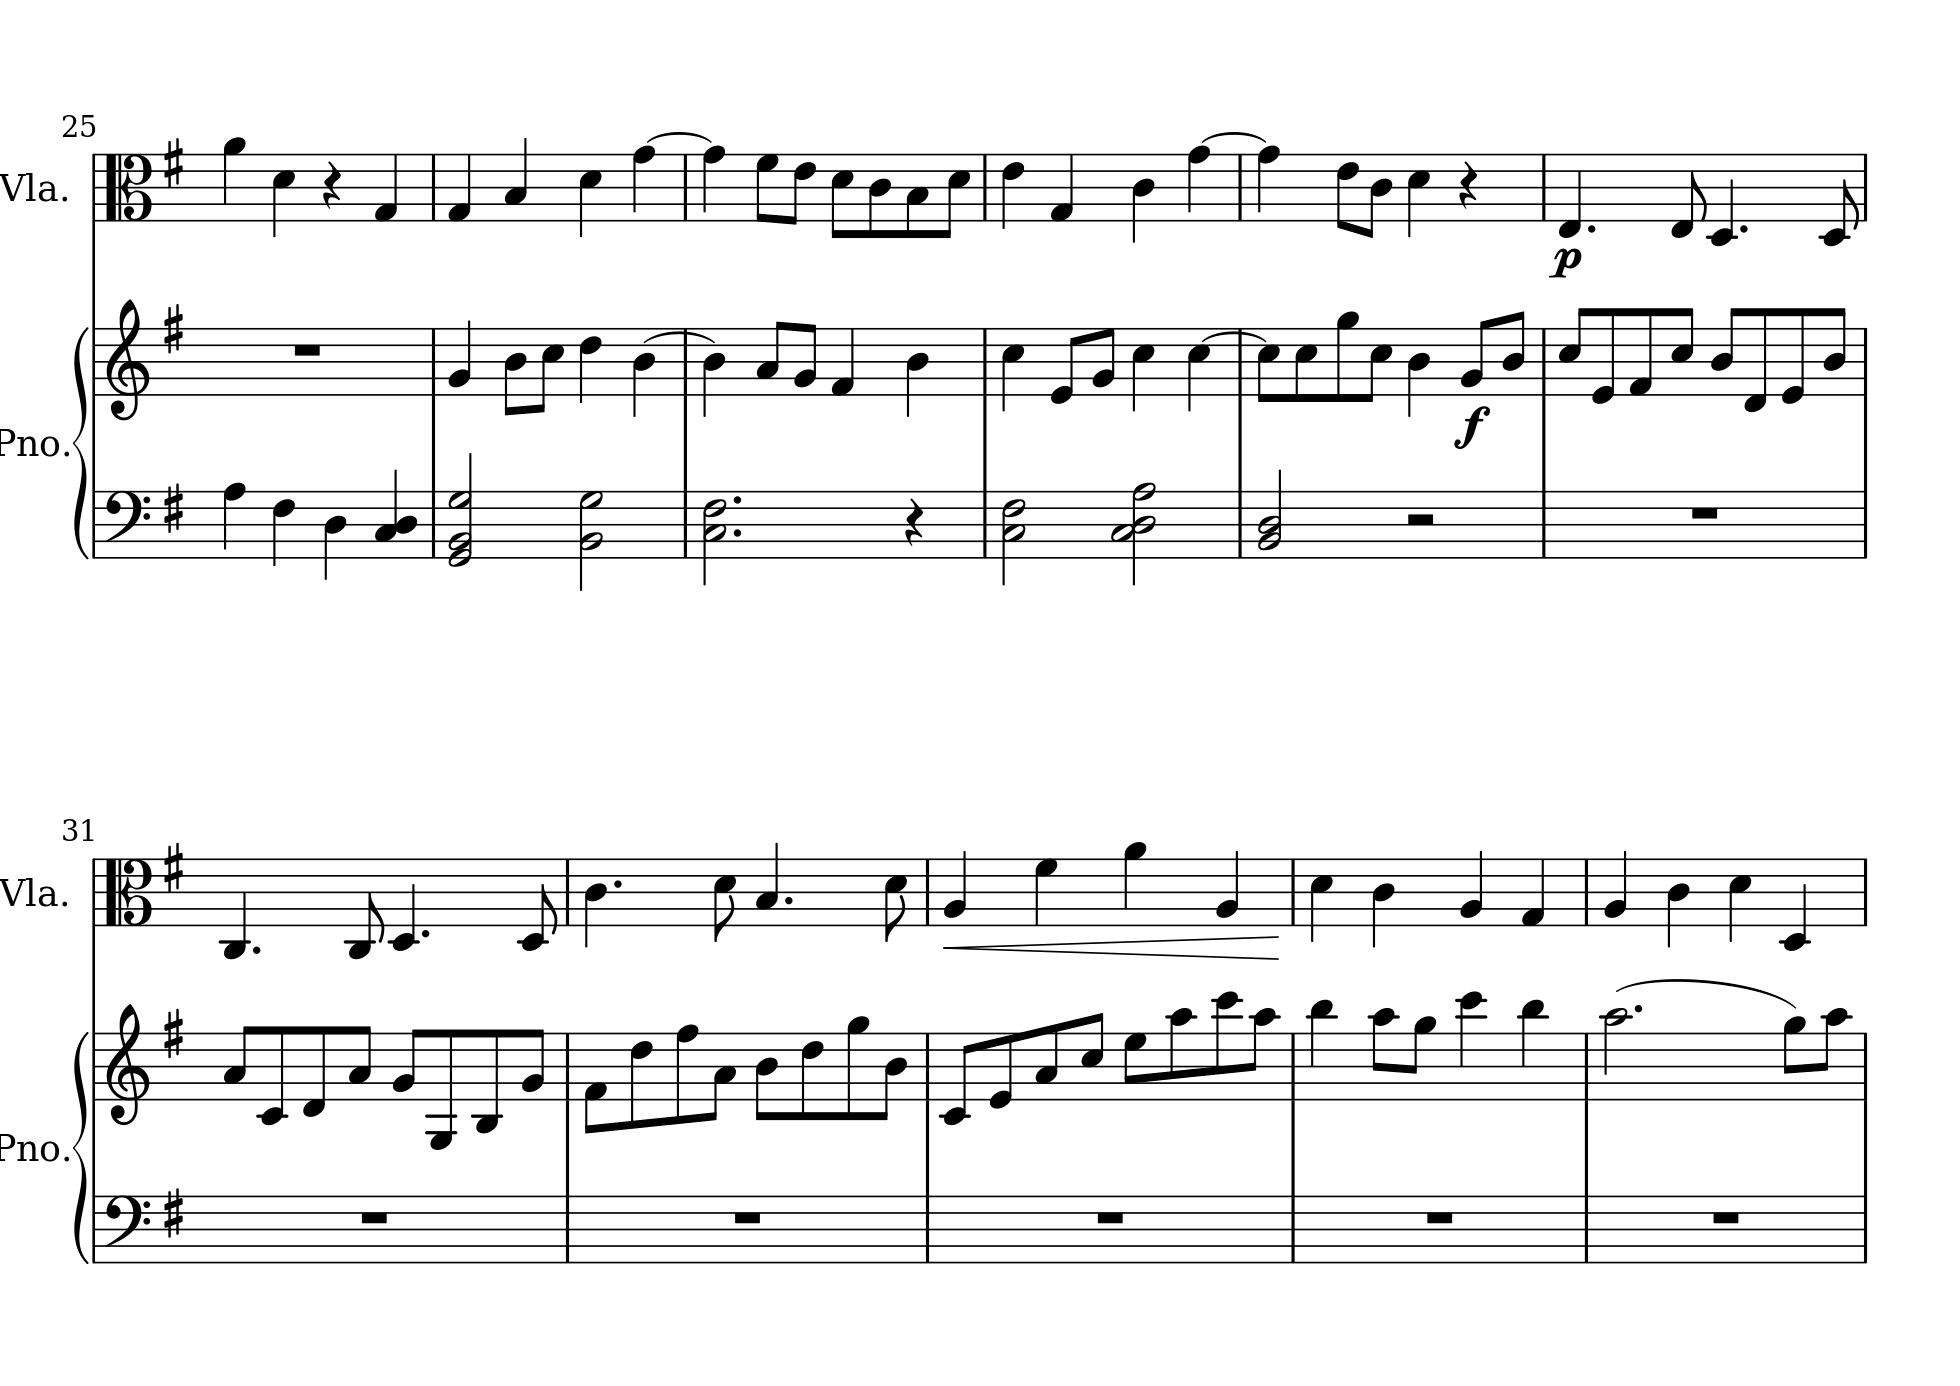1: (81, 816, 94, 843)
2: (60, 112, 79, 139)
2_10: (1602, 1005, 1629, 1102)
2_2_4: (1257, 469, 1284, 559)
2_2_7: (579, 489, 604, 591)
2_3_6: (700, 490, 727, 591), (1002, 489, 1029, 589)
2_th: (1110, 478, 1159, 586), (447, 448, 475, 571)
3: (61, 816, 78, 841)
4_-1: (1557, 151, 1582, 238)
4_-2: (1779, 855, 1809, 952), (1707, 151, 1737, 247), (388, 855, 417, 952)
4_-3: (219, 853, 249, 961)
4_1: (372, 151, 399, 223), (445, 151, 472, 223), (829, 325, 856, 397), (1048, 151, 1075, 222), (1519, 856, 1545, 927)
4_11: (1518, 997, 1546, 1102), (1306, 997, 1335, 1101)
4_12: (1456, 988, 1486, 1102)
4_2: (1215, 847, 1242, 927), (1602, 847, 1629, 927), (447, 318, 472, 397), (942, 847, 967, 927), (1459, 847, 1485, 927)
4_3: (502, 135, 528, 222), (754, 841, 778, 927)
4_4: (321, 487, 348, 580), (630, 325, 655, 418), (700, 325, 726, 418), (904, 325, 930, 418), (1405, 325, 1431, 418), (582, 856, 607, 949), (1665, 856, 1690, 948), (1131, 151, 1155, 244), (1371, 856, 1395, 948)
4_5: (999, 325, 1026, 412), (1308, 856, 1335, 943), (1405, 151, 1431, 240), (270, 151, 295, 238), (1129, 325, 1155, 412), (1185, 325, 1210, 412), (1726, 856, 1752, 943), (577, 151, 601, 240)
4_6: (999, 151, 1026, 229), (270, 489, 297, 567), (577, 325, 601, 403)
4_7: (1033, 856, 1059, 927)
4_8: (1185, 142, 1212, 223), (1254, 142, 1281, 223), (699, 142, 724, 223), (630, 142, 655, 222), (220, 480, 246, 559)
4_9: (1122, 838, 1147, 927), (220, 133, 244, 222)
5: (79, 111, 96, 138)
8_-1: (1668, 150, 1707, 238), (1740, 304, 1770, 415), (300, 1023, 328, 1117)
8_-2: (514, 856, 558, 952), (1818, 151, 1860, 247), (937, 1030, 975, 1126), (256, 1023, 288, 1126)
8_-3: (343, 856, 384, 960), (472, 1027, 501, 1132)
8_-5: (424, 1026, 456, 1150)
8_0: (1590, 304, 1617, 406), (1779, 304, 1806, 406), (1050, 325, 1081, 405), (987, 1029, 1014, 1108)
8_1: (582, 1030, 607, 1135), (1627, 304, 1654, 397)
8_10: (1818, 1005, 1851, 1101), (1246, 1006, 1279, 1101), (1368, 1005, 1398, 1101), (1167, 1006, 1194, 1102)
8_12: (1212, 988, 1242, 1102)
8_2: (1459, 316, 1491, 394), (390, 1027, 421, 1101), (792, 321, 817, 397), (519, 1026, 544, 1099), (1092, 325, 1116, 396)
8_3: (705, 1030, 736, 1122), (220, 1021, 255, 1099), (754, 318, 786, 396), (903, 151, 928, 238), (1033, 1020, 1060, 1101), (346, 1023, 370, 1101)
8_4: (1708, 304, 1743, 396), (876, 1030, 907, 1120), (1362, 151, 1392, 240), (1821, 304, 1848, 396), (1500, 307, 1527, 397), (753, 1030, 778, 1122), (867, 151, 892, 238), (502, 325, 526, 417)
8_5: (1555, 304, 1587, 397), (532, 325, 564, 412), (940, 151, 970, 238), (1668, 304, 1695, 396), (1078, 1009, 1104, 1102), (1362, 325, 1392, 403), (882, 856, 907, 943), (711, 856, 736, 942), (829, 151, 853, 238), (1255, 325, 1281, 403), (1293, 325, 1318, 403)
8_6: (627, 1030, 652, 1129), (786, 151, 817, 226), (798, 1030, 823, 1122), (1335, 151, 1359, 232)
8_7: (753, 151, 778, 223), (1122, 1030, 1147, 1101)
8_8: (672, 1021, 697, 1125)
8_9: (843, 1012, 868, 1120), (1407, 1015, 1437, 1101), (1333, 309, 1359, 403), (1782, 1014, 1806, 1101)
Brace: (70, 1029, 90, 1263), (70, 325, 90, 556)
Cclef: (102, 150, 154, 223), (100, 855, 154, 925)
Crescendo_hairpin: (943, 934, 1278, 958)
Fclef: (100, 487, 151, 559), (100, 1191, 151, 1252)
Gclef: (103, 1000, 150, 1126), (103, 297, 150, 421)
Pno: (1, 1129, 58, 1164), (1, 424, 58, 457)
Rests1: (355, 1206, 391, 1227), (289, 339, 324, 358), (730, 1206, 763, 1225), (1687, 502, 1722, 520), (1093, 1207, 1128, 1225), (1423, 1207, 1458, 1225), (1708, 1207, 1743, 1225)
Rests2: (1402, 510, 1438, 529)
Rests4: (319, 159, 343, 211), (901, 496, 925, 547), (1458, 159, 1479, 211)
Sharp: (159, 1183, 186, 1240), (160, 480, 186, 535), (159, 840, 184, 894), (160, 1006, 186, 1060), (160, 301, 184, 355), (160, 136, 184, 189)
Single_barline: (424, 153, 442, 220), (1284, 858, 1302, 925), (1284, 1032, 1302, 1099), (1578, 1032, 1596, 1099), (424, 328, 442, 394), (976, 328, 994, 394), (1233, 154, 1251, 219), (1857, 327, 1873, 396), (1578, 856, 1594, 925), (1536, 153, 1552, 220), (976, 489, 993, 556), (85, 858, 102, 925), (1857, 858, 1873, 925), (921, 1032, 937, 1099), (919, 1195, 936, 1263), (1285, 1195, 1302, 1263), (1578, 1195, 1594, 1263), (679, 328, 696, 394), (1233, 328, 1249, 394), (1536, 490, 1552, 556), (919, 858, 936, 924), (978, 154, 994, 217), (1857, 490, 1872, 559), (1857, 1030, 1872, 1099), (559, 1195, 574, 1263), (679, 154, 694, 220), (1857, 154, 1872, 220), (678, 489, 693, 555), (426, 490, 441, 556), (1233, 490, 1248, 556), (559, 1033, 574, 1099), (1857, 1195, 1872, 1261), (559, 859, 574, 924), (1537, 327, 1551, 394), (87, 154, 100, 220), (88, 490, 100, 558), (88, 1032, 100, 1099), (88, 328, 100, 394), (88, 1195, 100, 1261)
Slur: (1611, 976, 1797, 1009), (646, 129, 711, 147), (1200, 129, 1269, 145), (643, 331, 717, 345), (1203, 330, 1266, 343)
Vla: (1, 871, 61, 916), (1, 166, 58, 211)
dot: (1737, 220, 1752, 235), (250, 940, 264, 957), (418, 925, 432, 940), (610, 876, 624, 889), (1585, 222, 1599, 234), (730, 492, 742, 505), (730, 525, 742, 538), (1633, 1000, 1644, 1015), (781, 892, 793, 904)
f: (1452, 403, 1491, 448)
p: (1548, 244, 1581, 280)
